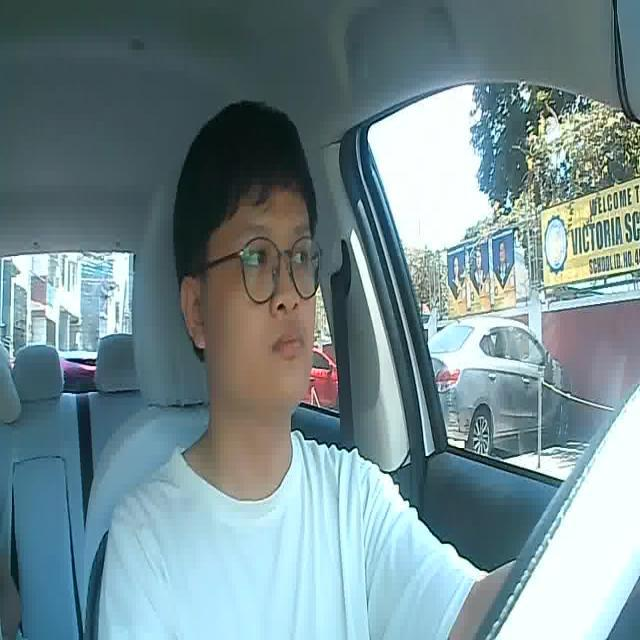Attentive: (167, 96, 321, 413)
Eye-Open: (239, 245, 272, 271), (287, 244, 311, 271)
Normal: (269, 326, 311, 369)
